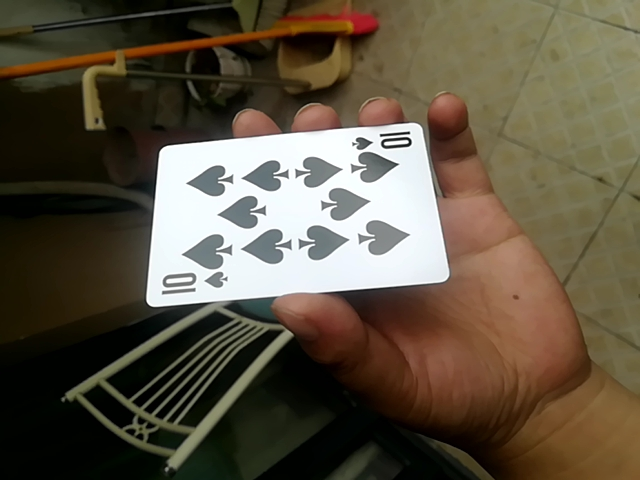ht 10: (142, 123, 443, 312)
